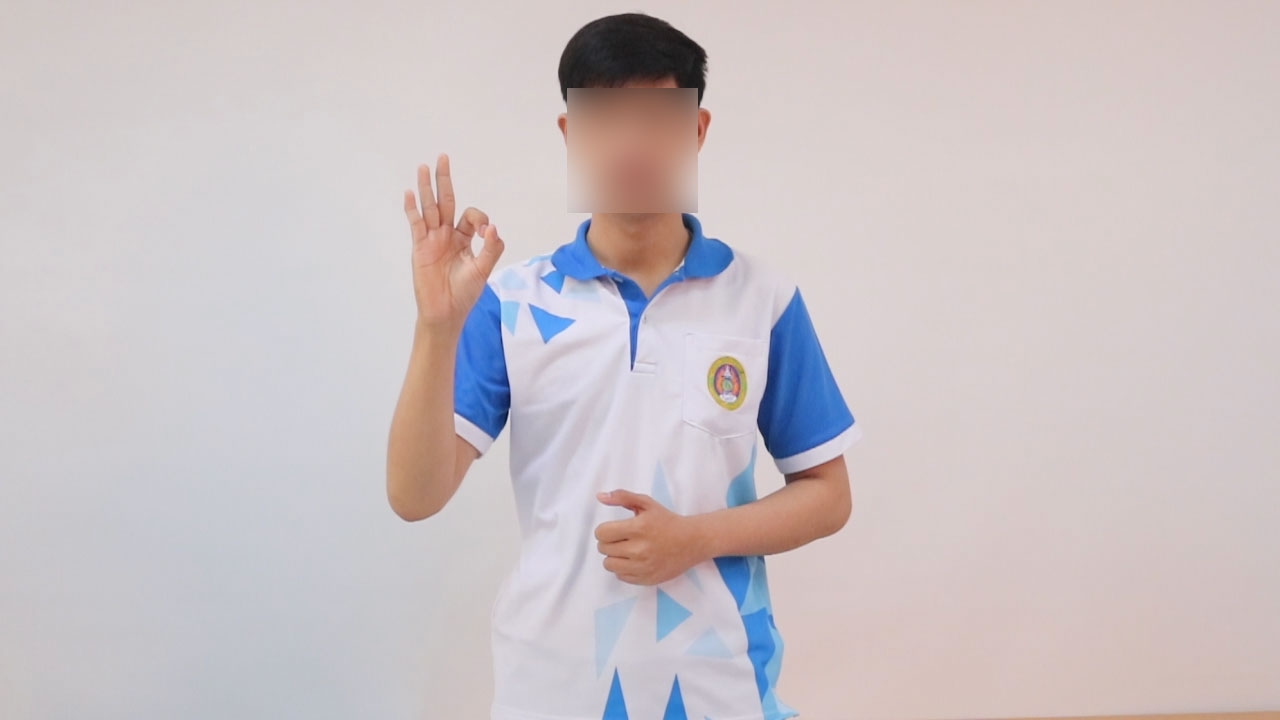for: (394, 140, 509, 341)
